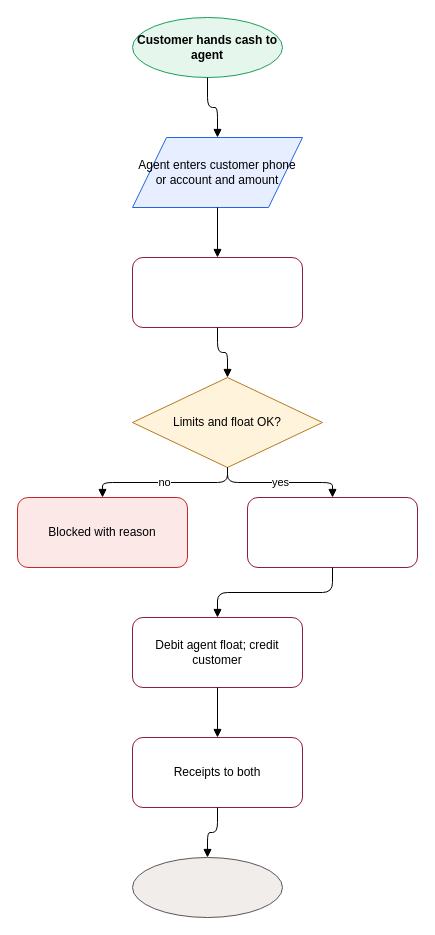
Some shapes in this 435 by 935 pixel diagram are drawn without their labels. The shapes that lost their labels are listed below. From the top down, each one's box as (x1, y1, x2, y2) in pixels, then its label:
(132, 256, 302, 328): Name shown; customer confirms identity
(246, 496, 418, 568): Agent confirms with PIN
(132, 856, 282, 918): Done
